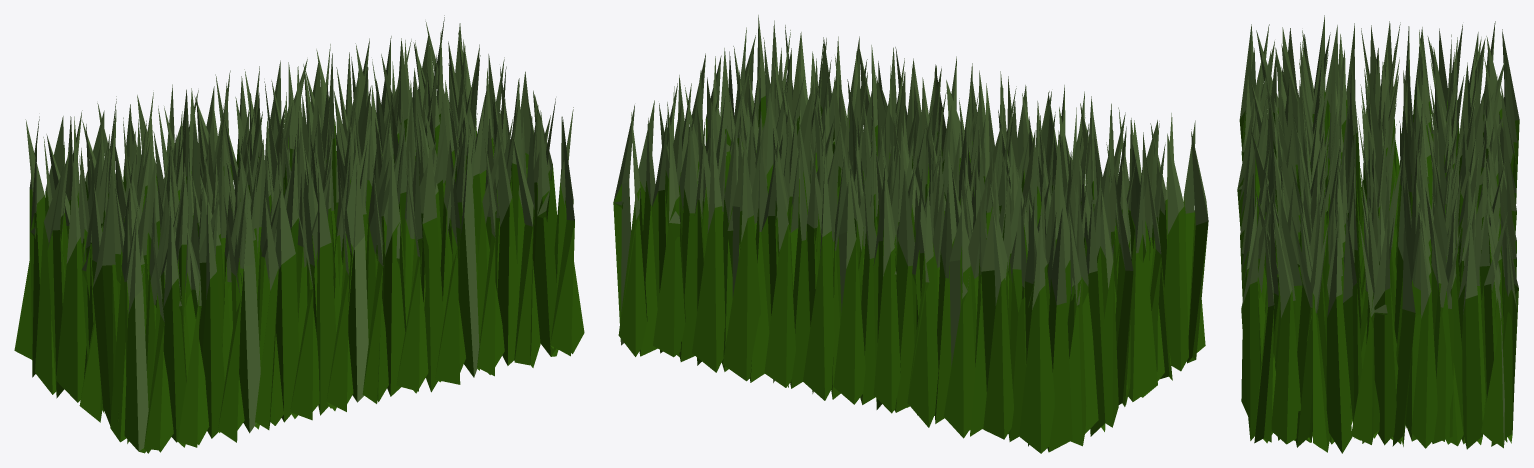
The model's file is GrassMiddle.fbx.
3 views of the same model, side by side, from view 1: azimuth 30°, elevation 25°; view 2: azimuth 150°, elevation 25°; view 3: azimuth 270°, elevation 25° (orthographic). The views are drawn at different scales.
Visible parts, largest first — view 1: Cube; view 2: Cube; view 3: Cube.
Part boxes in pixels (x1,y1,x2,y2): Cube: (14, 15, 584, 453); Cube: (613, 15, 1208, 453); Cube: (1237, 15, 1519, 453).
Size of the model in its own units: 2554 by 1364 by 1416.
